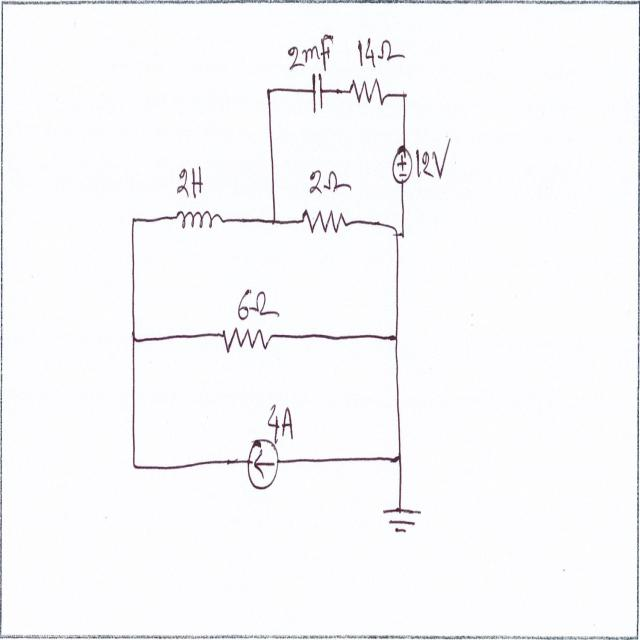capacitor: (311, 64, 326, 120)
current_source: (242, 431, 280, 495)
ground: (379, 496, 426, 542)
inductor: (173, 200, 227, 237)
resistor: (216, 320, 274, 359), (300, 197, 351, 240), (346, 68, 389, 112)
voltage_source: (388, 134, 415, 192)
